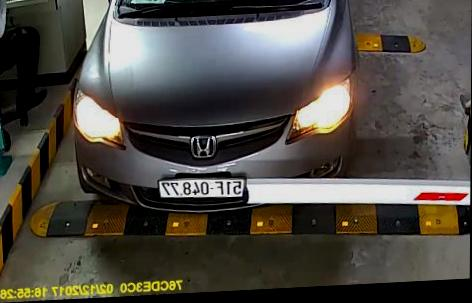License_Plate: (155, 169, 250, 204)
